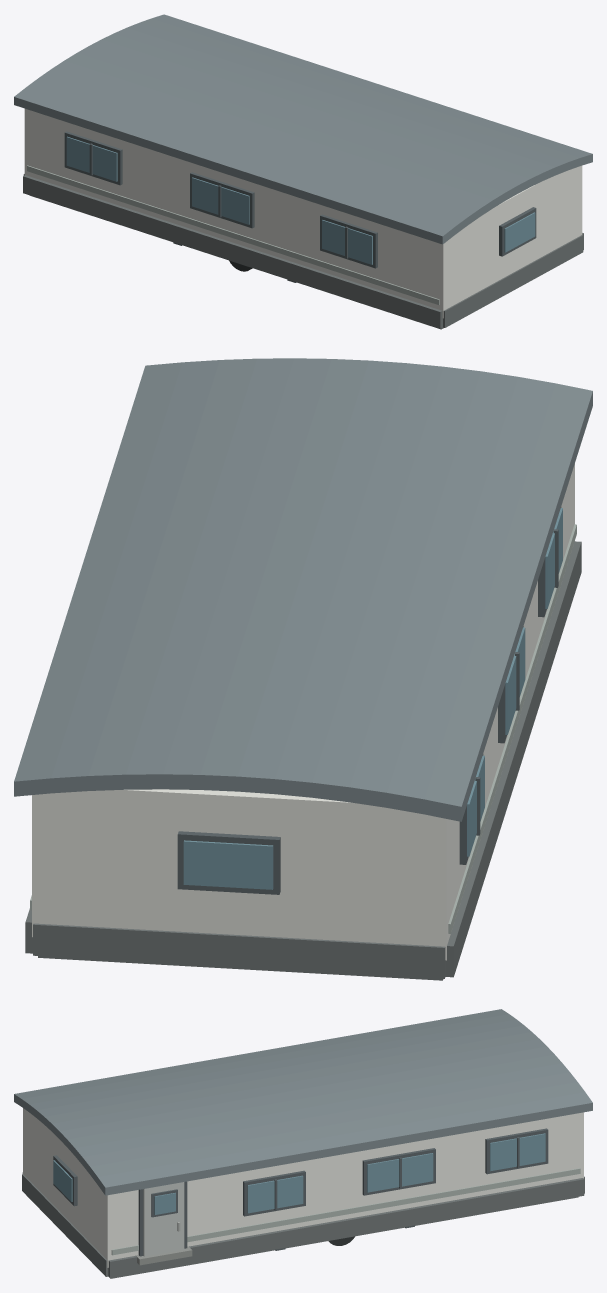
3 renders of one model, top to bottom at view 1: azimuth 30°, elevation 25°; view 2: azimuth 150°, elevation 25°; view 3: azimuth 270°, elevation 25°, orthographic. The views are drawn at different scales.
Parts seen in each view (by area): view 1: shallow_crowned_roof, main_caravan_body, lower_side_skirt_negative, side_stripe_negative, lower_end_skirt_positive, negative_side_window_2_glass, negative_side_window_1_glass, negative_side_window_3_glass, front_end_window_glass, negative_side_window_2_frame, negative_side_window_1_frame, negative_side_window_3_frame (+1 smaller); view 2: shallow_crowned_roof, main_caravan_body, lower_end_skirt_negative, lower_side_skirt_negative, rear_end_window_glass, side_stripe_negative, rear_end_window_frame, negative_side_window_2_glass, underframe_main, negative_side_window_1_glass, negative_side_window_3_glass; view 3: shallow_crowned_roof, main_caravan_body, lower_side_skirt_positive, side_stripe_positive, entrance_door_panel, positive_side_window_2_glass, lower_end_skirt_positive, positive_side_window_3_glass, positive_side_window_1_glass, positive_side_window_2_frame, positive_side_window_1_frame, positive_side_window_3_frame (+6 smaller).
Part boxes in pixels (left/top/right/bottom): shallow_crowned_roof: left=14, top=14, right=592, bottom=244; main_caravan_body: left=24, top=108, right=582, bottom=318; lower_side_skirt_negative: left=23, top=175, right=442, bottom=328; side_stripe_negative: left=27, top=165, right=439, bottom=304; lower_end_skirt_positive: left=443, top=235, right=583, bottom=327; negative_side_window_2_glass: left=192, top=177, right=249, bottom=224; negative_side_window_1_glass: left=66, top=136, right=117, bottom=181; negative_side_window_3_glass: left=322, top=220, right=372, bottom=264; front_end_window_glass: left=504, top=212, right=535, bottom=252; negative_side_window_2_frame: left=190, top=172, right=254, bottom=228; negative_side_window_1_frame: left=64, top=131, right=122, bottom=185; negative_side_window_3_frame: left=320, top=214, right=377, bottom=268; shallow_crowned_roof: left=14, top=358, right=592, bottom=821; main_caravan_body: left=32, top=463, right=574, bottom=960; lower_end_skirt_negative: left=33, top=923, right=445, bottom=978; lower_side_skirt_negative: left=445, top=541, right=581, bottom=977; rear_end_window_glass: left=183, top=840, right=273, bottom=889; side_stripe_negative: left=448, top=524, right=576, bottom=933; rear_end_window_frame: left=177, top=831, right=280, bottom=894; negative_side_window_2_glass: left=505, top=627, right=525, bottom=734; underframe_main: left=38, top=956, right=443, bottom=980; negative_side_window_1_glass: left=467, top=755, right=484, bottom=856; negative_side_window_3_glass: left=545, top=508, right=562, bottom=608; shallow_crowned_roof: left=14, top=1009, right=592, bottom=1195; main_caravan_body: left=23, top=1108, right=583, bottom=1267; lower_side_skirt_positive: left=108, top=1178, right=584, bottom=1278; side_stripe_positive: left=111, top=1168, right=580, bottom=1255; entrance_door_panel: left=143, top=1182, right=184, bottom=1256; positive_side_window_2_glass: left=367, top=1153, right=433, bottom=1192; lower_end_skirt_positive: left=22, top=1174, right=108, bottom=1276; positive_side_window_3_glass: left=247, top=1175, right=303, bottom=1213; positive_side_window_1_glass: left=490, top=1133, right=545, bottom=1171; positive_side_window_2_frame: left=362, top=1148, right=435, bottom=1195; positive_side_window_1_frame: left=485, top=1128, right=548, bottom=1174; positive_side_window_3_frame: left=243, top=1170, right=305, bottom=1216.
Size of the model in its own units: 8.14 by 2.5 by 11.15.
